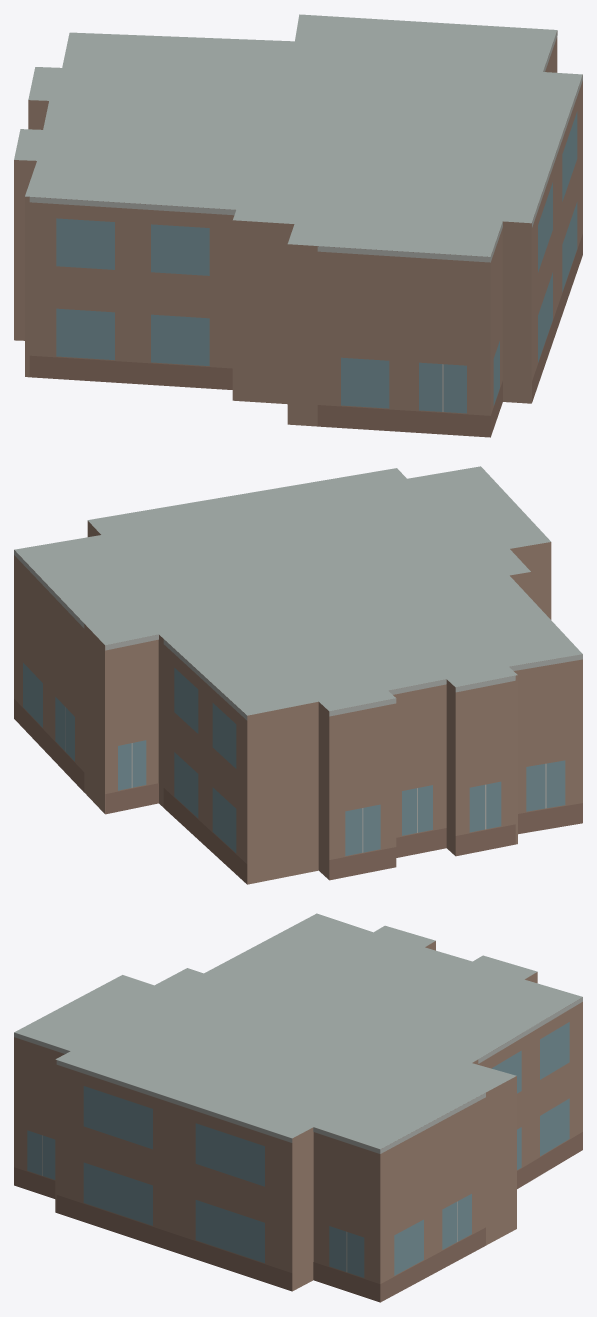
File: survey-upis-32934075.glb
The picture shows the model from 3 angles, top to bottom: view 1: azimuth 30°, elevation 25°; view 2: azimuth 150°, elevation 25°; view 3: azimuth 270°, elevation 25°; orthographic projection. The views are drawn at different scales.
Visible parts, largest first — view 1: survey-upis-32934075.tmp; view 2: survey-upis-32934075.tmp; view 3: survey-upis-32934075.tmp.
Part boxes in pixels (bbox=[...]): survey-upis-32934075.tmp: bbox=[14, 14, 582, 437]; survey-upis-32934075.tmp: bbox=[14, 466, 582, 884]; survey-upis-32934075.tmp: bbox=[14, 913, 582, 1302].
Bounding box in the file's own units: 26.19 × 7.92 × 26.68.
